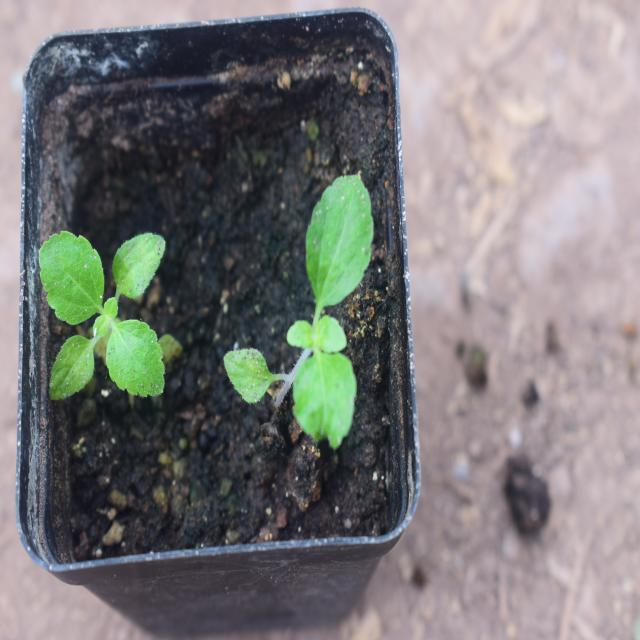billygoat_weed: (228, 163, 386, 468), (22, 200, 171, 422)
